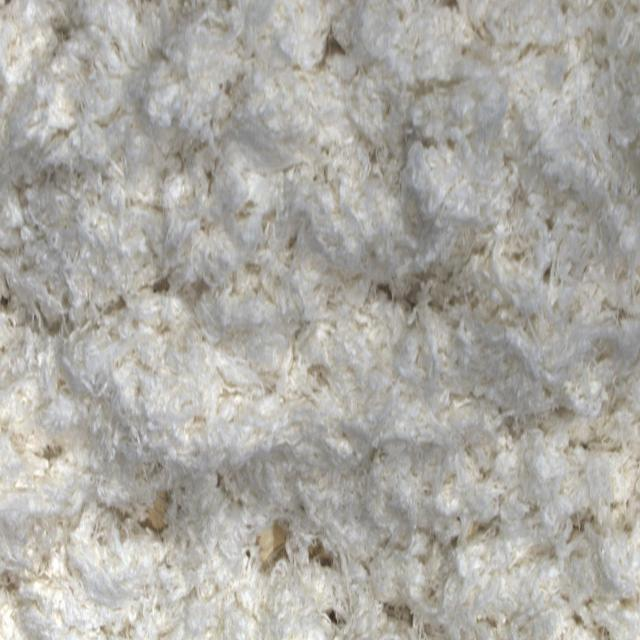dust: (140, 493, 178, 537), (259, 519, 284, 578)
